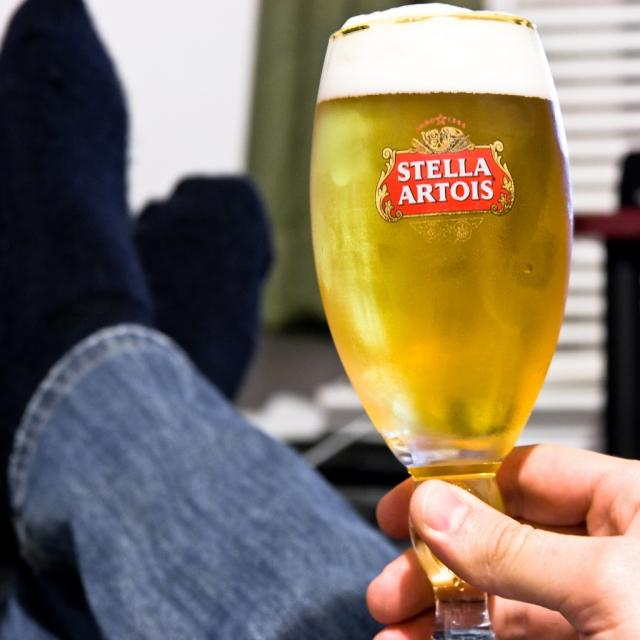stellaartois: (373, 112, 521, 250)
